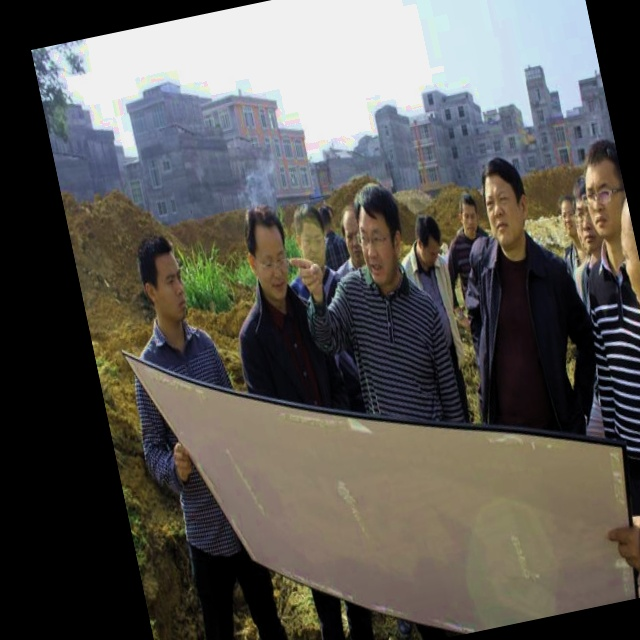Sin_Casco_Mascarrilla: (346, 179, 411, 287), (473, 151, 536, 251), (133, 229, 193, 328)
